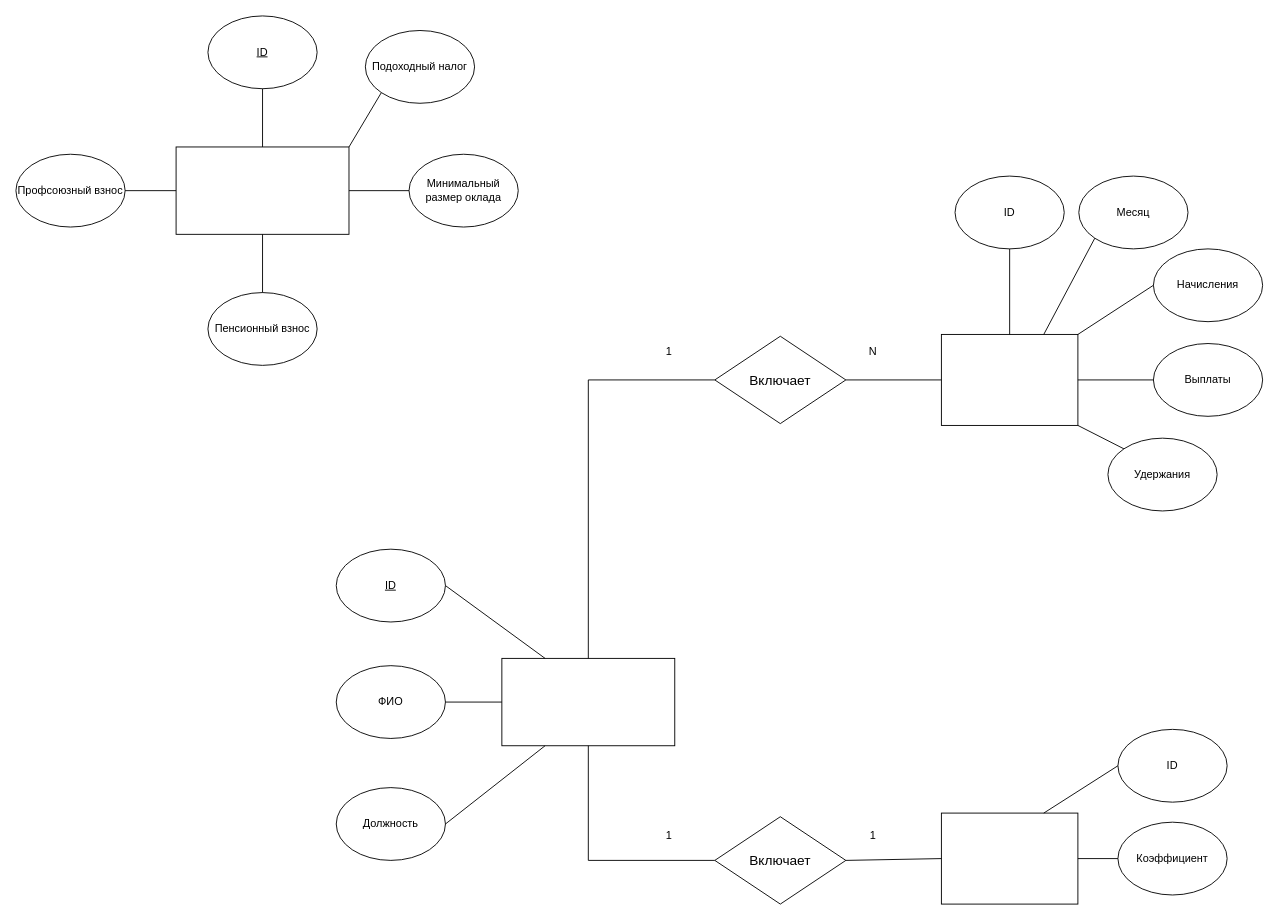
Some shapes in this 1279 by 920 pixel diagram are drawn without their labels. Here are the shapes that lost their labels. From the top down, the centre of each, then its label:
At (x=262, y=190): "Мета-информация системы".
At (x=1009, y=379): "Платежная история".
At (x=588, y=701): "Сотрудник".
At (x=1009, y=858): "Разряд".
